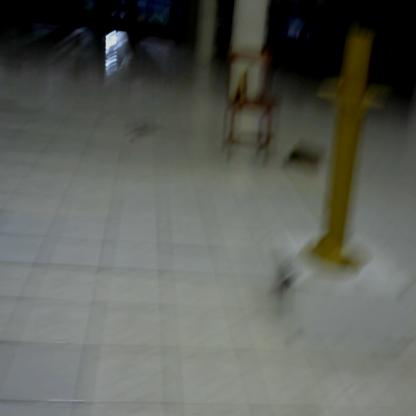pole: (301, 28, 400, 283)
